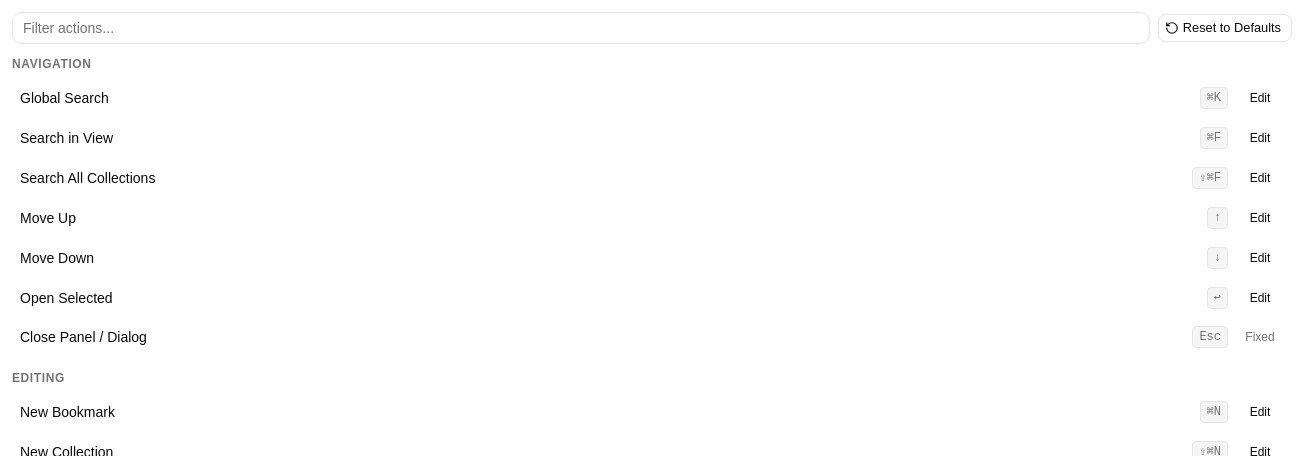
ShortcutEditor › rebinds an action to the key combo pressed after clicking Edit
This screenshot has width=1304, height=473.
Click the button with aria-label "Edit New Bookmark shortcut" at (1260, 412), box [1236,400,1284,424]
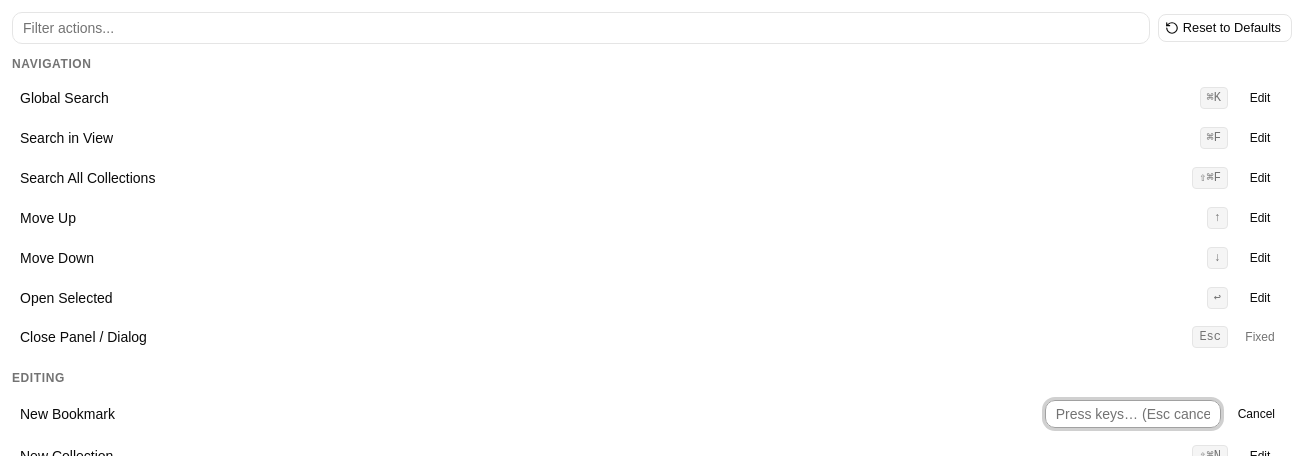
Type keys "{Meta>}{Shift>}e{/Shift}{/Meta}"
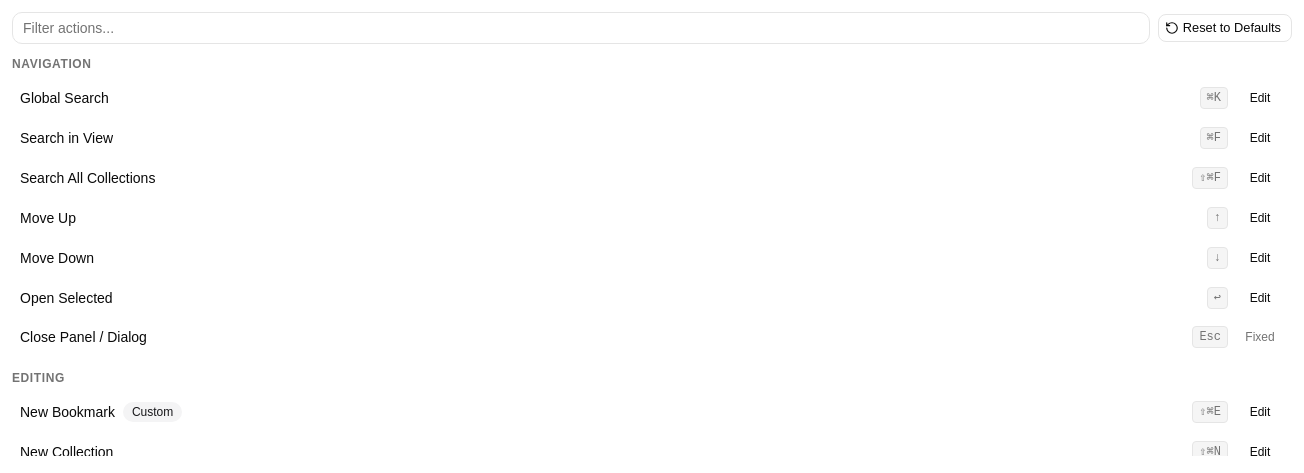
Result: the text "⇧⌘E" is shown at [1192,401,1228,423]
Result: the icon "Custom" is shown at [123,402,182,422]
